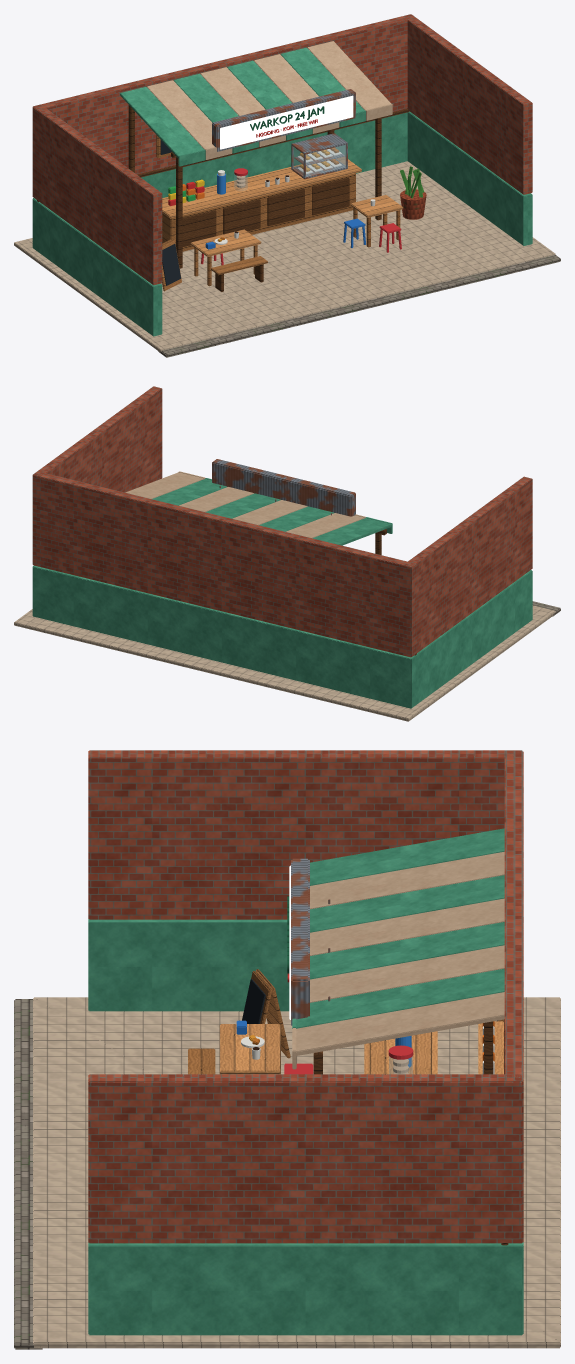
File: warkop.glb
The picture shows the model from 3 angles, top to bottom: view 1: azimuth 30°, elevation 25°; view 2: azimuth 150°, elevation 25°; view 3: azimuth 270°, elevation 25°; orthographic projection. The views are drawn at different scales.
Visible parts, largest first — view 1: WK_Floor, WK_SideWall_L_Top, WK_SideWall_R_Top, WK_BackWall_Top, WK_SideWall_L_Low, WK_SideWall_R_Low, WK_BackWall_Low, WK_FrontStep, WK_CounterTop, WK_SignBoxFace, WK_CounterBody, WK_CanopyStrip_0 (+23 smaller); view 2: WK_BackWall_Top, WK_BackWall_Low, WK_SideWall_L_Top, WK_Floor, WK_SideWall_R_Top, WK_SideWall_L_Low, WK_SignBoxFrame, WK_CanopyStrip_0, WK_CanopyStrip_7, WK_CanopyStrip_1, WK_CanopyStrip_6, WK_CanopyStrip_4 (+3 smaller); view 3: WK_SideWall_R_Top, WK_SideWall_L_Top, WK_Floor, WK_SideWall_R_Low, WK_SideWall_L_Low, WK_BackWall_Top, WK_FrontStep, WK_CanopyStrip_7, WK_CanopyStrip_6, WK_CanopyStrip_2, WK_CanopyStrip_0, WK_CanopyStrip_4 (+8 smaller).
Boxes of the visible parts, left/top/right/bottom form: WK_Floor: left=14, top=161, right=555, bottom=352; WK_SideWall_L_Top: left=32, top=105, right=162, bottom=285; WK_SideWall_R_Top: left=404, top=14, right=532, bottom=194; WK_BackWall_Top: left=33, top=14, right=414, bottom=174; WK_SideWall_L_Low: left=32, top=198, right=162, bottom=336; WK_SideWall_R_Low: left=407, top=111, right=532, bottom=245; WK_BackWall_Low: left=141, top=112, right=407, bottom=197; WK_FrontStep: left=158, top=254, right=560, bottom=357; WK_CounterTop: left=162, top=157, right=361, bottom=218; WK_SignBoxFace: left=220, top=95, right=353, bottom=149; WK_CounterBody: left=162, top=173, right=355, bottom=251; WK_CanopyStrip_0: left=120, top=87, right=203, bottom=158; WK_BackWall_Top: left=32, top=471, right=414, bottom=657; WK_BackWall_Low: left=32, top=565, right=414, bottom=708; WK_SideWall_L_Top: left=405, top=476, right=532, bottom=657; WK_Floor: left=14, top=605, right=555, bottom=721; WK_SideWall_R_Top: left=32, top=386, right=162, bottom=564; WK_SideWall_L_Low: left=404, top=570, right=532, bottom=708; WK_SignBoxFrame: left=212, top=459, right=355, bottom=516; WK_CanopyStrip_0: left=313, top=518, right=392, bottom=545; WK_CanopyStrip_7: left=125, top=472, right=204, bottom=498; WK_CanopyStrip_1: left=286, top=513, right=364, bottom=538; WK_CanopyStrip_6: left=152, top=479, right=226, bottom=505; WK_CanopyStrip_4: left=205, top=493, right=280, bottom=518; WK_SideWall_R_Top: left=88, top=1074, right=522, bottom=1243; WK_SideWall_L_Top: left=88, top=750, right=521, bottom=919; WK_Floor: left=33, top=997, right=560, bottom=1348; WK_SideWall_R_Low: left=88, top=1242, right=522, bottom=1335; WK_SideWall_L_Low: left=88, top=919, right=289, bottom=1011; WK_BackWall_Top: left=504, top=750, right=523, bottom=1242; WK_FrontStep: left=14, top=999, right=42, bottom=1349; WK_CanopyStrip_7: left=294, top=992, right=504, bottom=1055; WK_CanopyStrip_6: left=296, top=968, right=504, bottom=1028; WK_CanopyStrip_2: left=310, top=875, right=504, bottom=932; WK_CanopyStrip_0: left=310, top=828, right=504, bottom=885; WK_CanopyStrip_4: left=310, top=922, right=504, bottom=979.
Size of the model in its own units: 9.6 by 3.39 by 6.42.
Materials: 32 (14 with a texture image).
